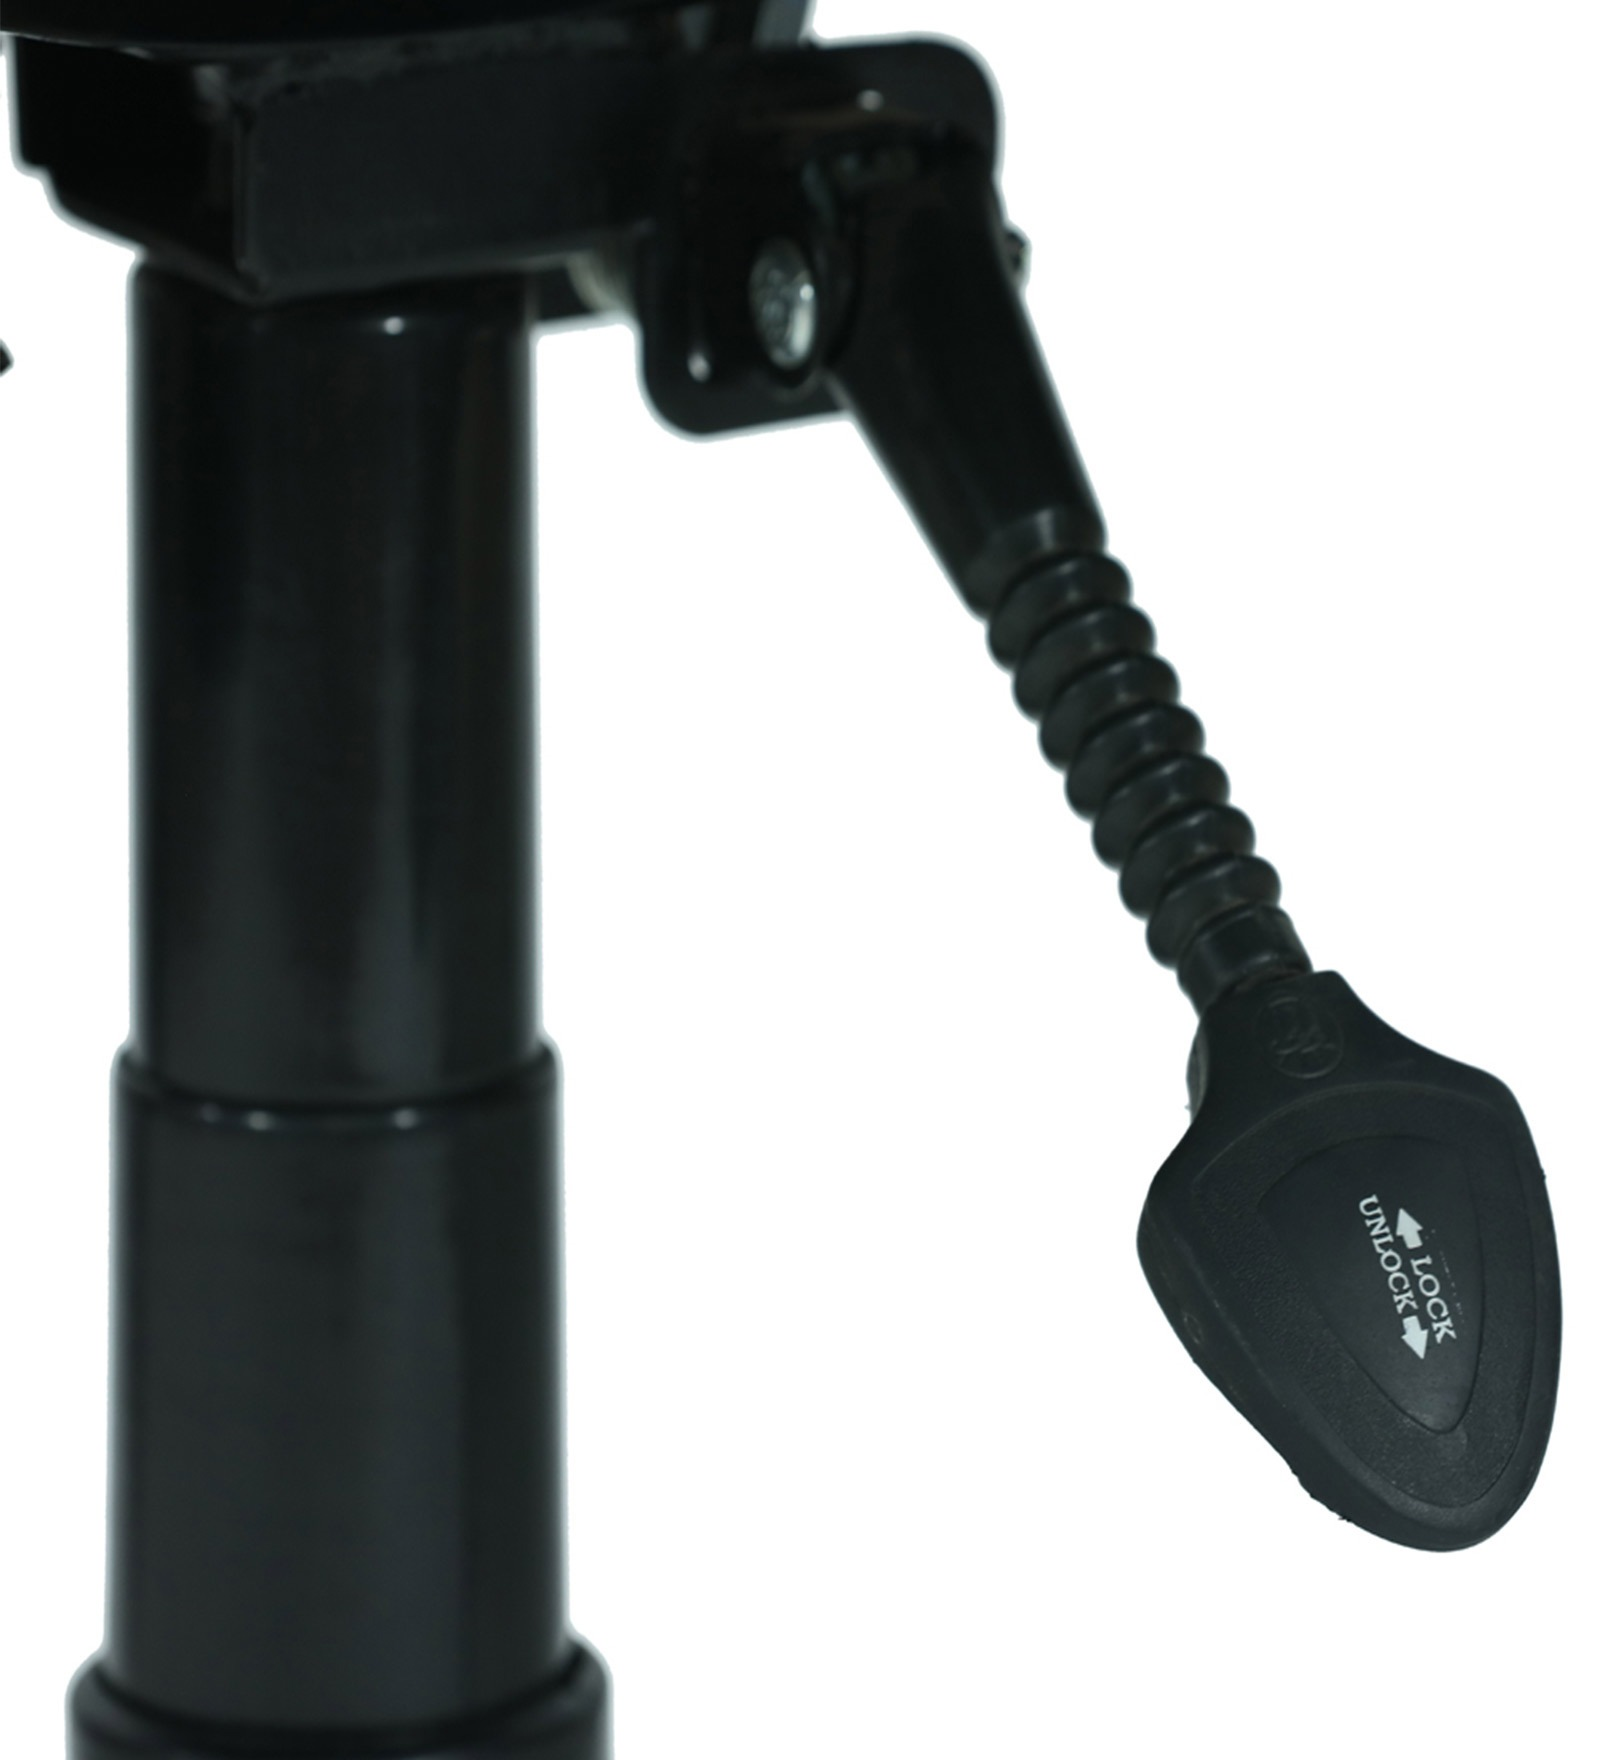Swivel High Back Ergonomic Chair with headrest In Black Colour By Furniease: (28, 20, 1574, 1760)
